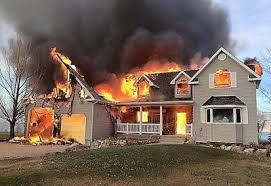fire: (99, 72, 152, 101), (175, 109, 188, 135), (213, 67, 231, 85)
